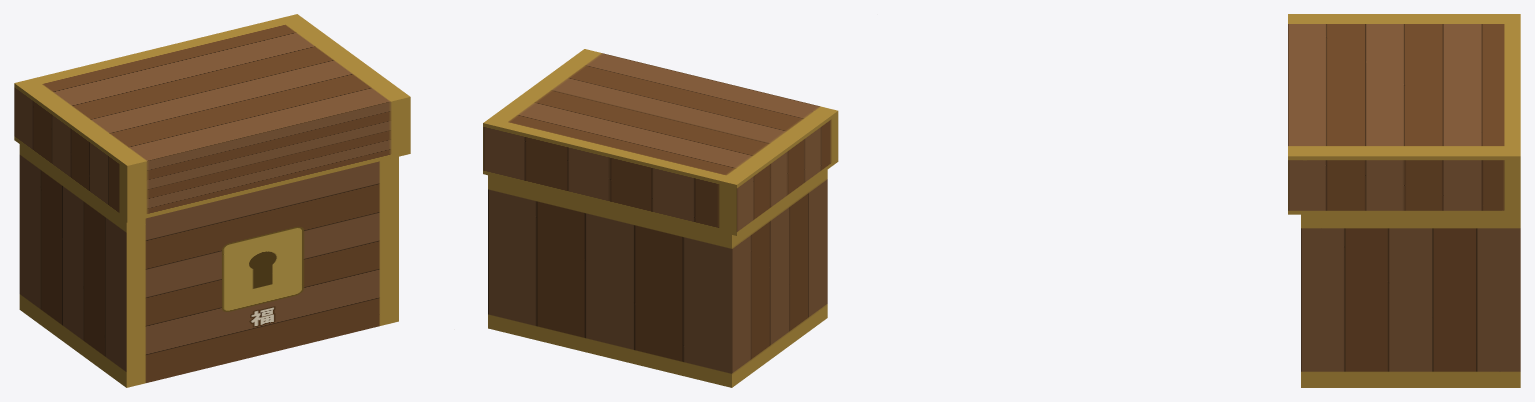
Rendered from treasure_3tou_3d.glb.
3 renders of one model, left to right at view 1: azimuth 30°, elevation 25°; view 2: azimuth 150°, elevation 25°; view 3: azimuth 270°, elevation 25°, orthographic. The views are drawn at different scales.
Visible parts, largest first — view 1: chest_body, chest_lid; view 2: chest_body, chest_lid; view 3: chest_lid, chest_body.
Boxes of the visible parts, <box> form: chest_body: <box>19,144,398,387</box>; chest_lid: <box>14,14,410,222</box>; chest_body: <box>488,170,827,387</box>; chest_lid: <box>483,49,838,235</box>; chest_lid: <box>1288,14,1520,214</box>; chest_body: <box>1301,214,1520,387</box>.
Size of the model in its own units: 0.52 by 0.4402 by 0.95.
Materials: 7 (5 with a texture image).
